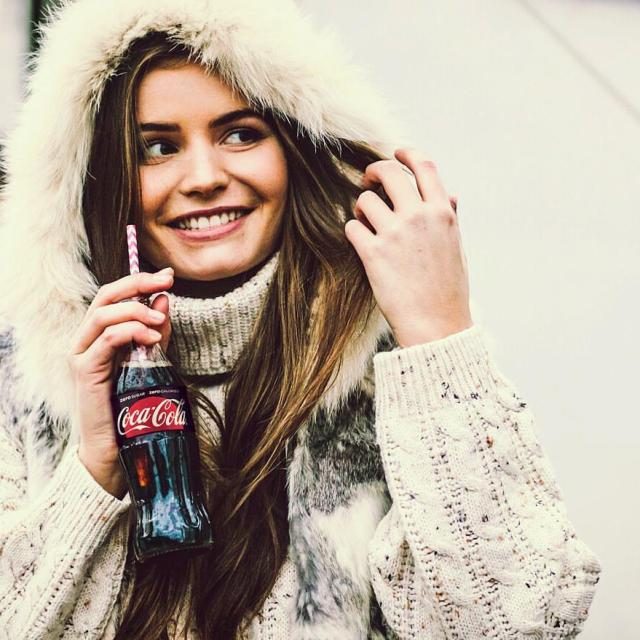coca-cola: (107, 295, 218, 571)
